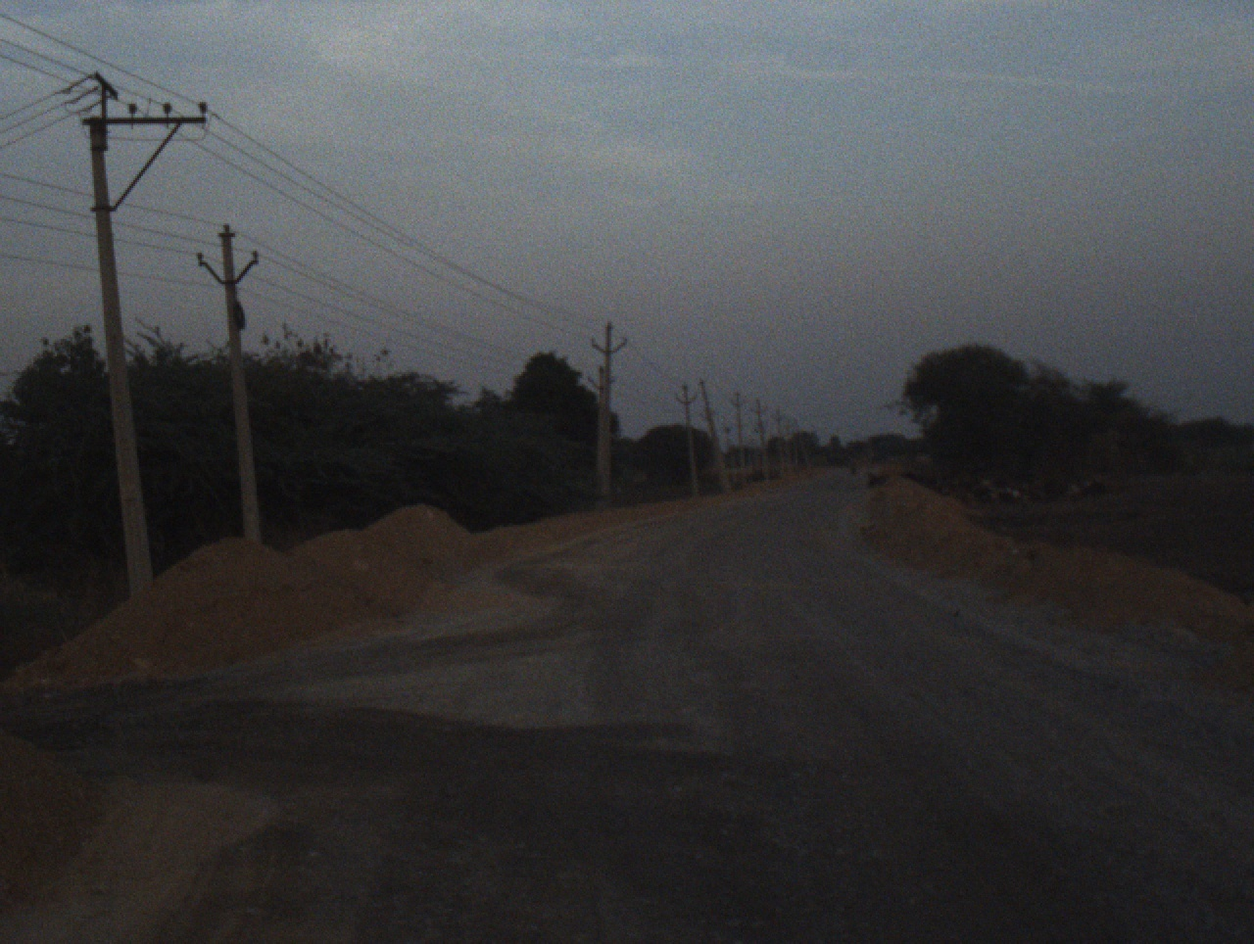animal: (986, 476, 1022, 506), (903, 461, 932, 485), (944, 472, 975, 492), (1050, 477, 1085, 492), (866, 468, 891, 487)
